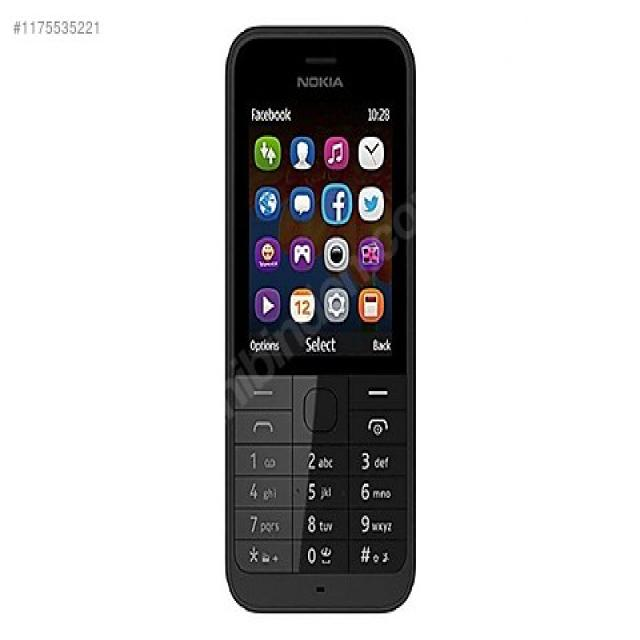mobile phone: (223, 23, 417, 613)
